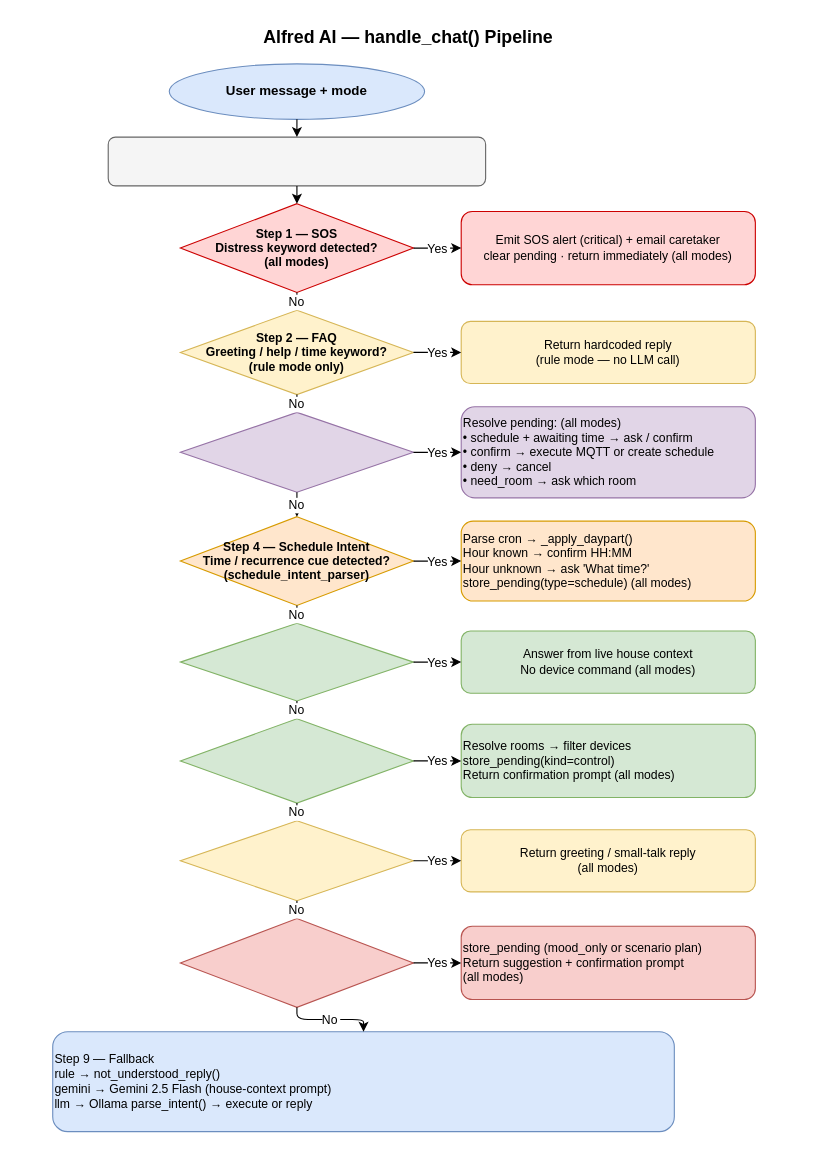
This 815x1151 diagram has some shape labels left out. The centre of each missing label's shape, as x and y in pixels:
"Load real-time house context (devices · rooms · sensors — 10 s TTL)" belongs at (296,161).
"Step 3 — Pending Action Pending confirmation exists?" belongs at (296,451).
"Step 5 — Info Query Status / sensor keyword?" belongs at (296,661).
"Step 6 — Device Control Control keyword? (word-boundary regex)" belongs at (296,760).
"Step 7 — Small-talk Greeting / thanks / how-are-you?" belongs at (296,860).
"Step 8 — Mood / Scenario MOOD_PROFILES keyword? ALFRED_SCENARIOS keyword?" belongs at (296,962).
